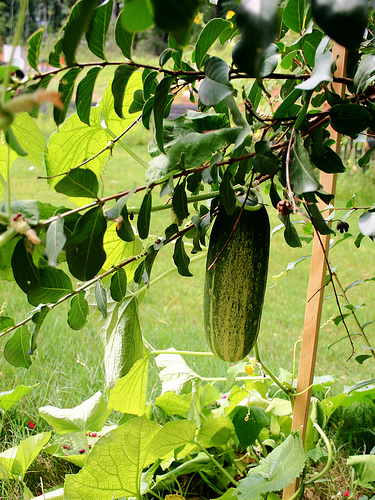cucumber: (203, 180, 270, 358)
